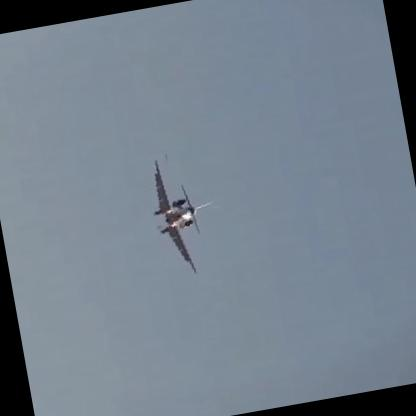plane: (136, 145, 231, 284)
